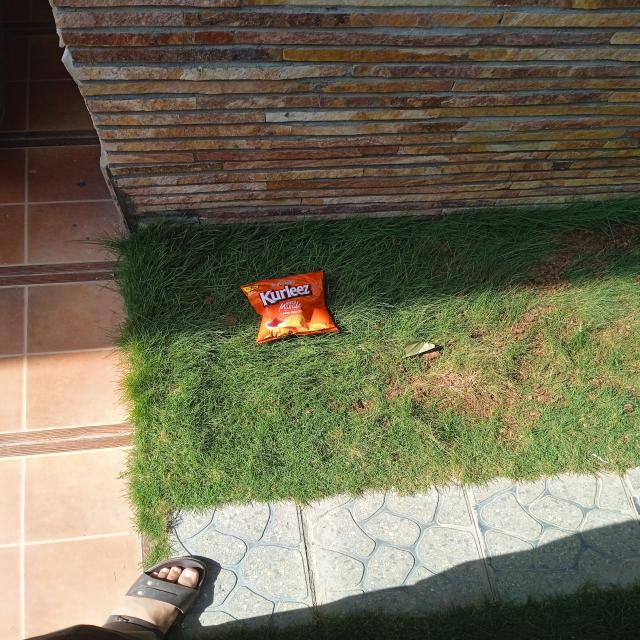Plastic: (236, 268, 340, 344)
